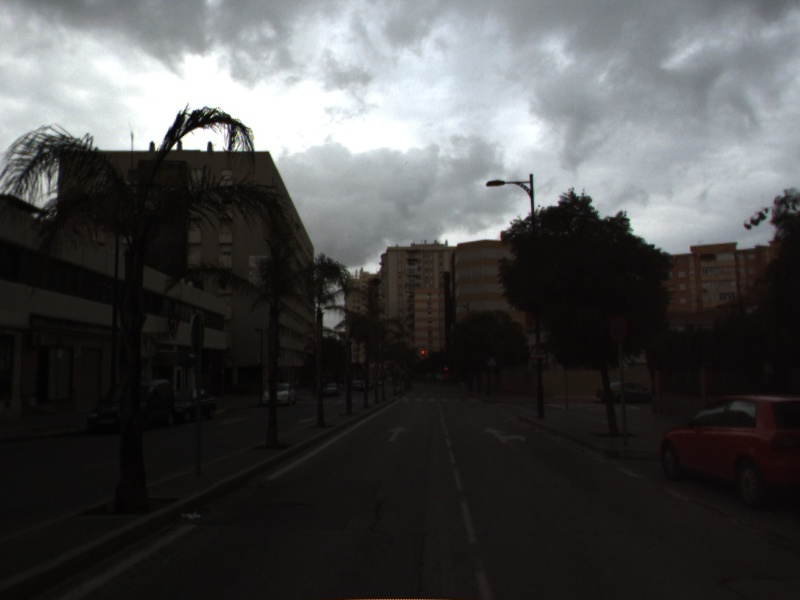STRAIGHT: (385, 424, 410, 444)
STRAIGHT_RIGHT: (481, 425, 528, 446)
